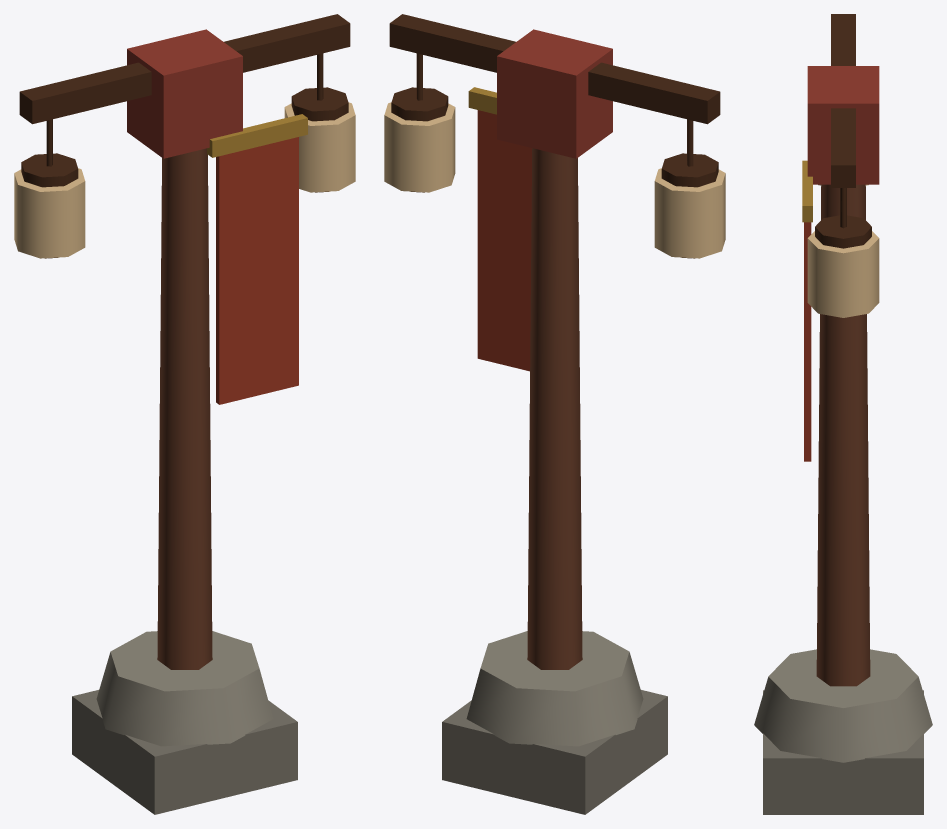
The model's file is tang-lantern-post.glb.
3 renders of one model, left to right at view 1: azimuth 30°, elevation 25°; view 2: azimuth 150°, elevation 25°; view 3: azimuth 270°, elevation 25°, orthographic. The views are drawn at different scales.
Visible parts, largest first — view 1: tang-lantern-post; view 2: tang-lantern-post; view 3: tang-lantern-post.
Part boxes in pixels (left/top/right/bottom): tang-lantern-post: left=14, top=14, right=355, bottom=814; tang-lantern-post: left=384, top=14, right=725, bottom=814; tang-lantern-post: left=754, top=14, right=932, bottom=814.
Bounding box in the file's own units: 2.1 × 4.3 × 0.9999.
